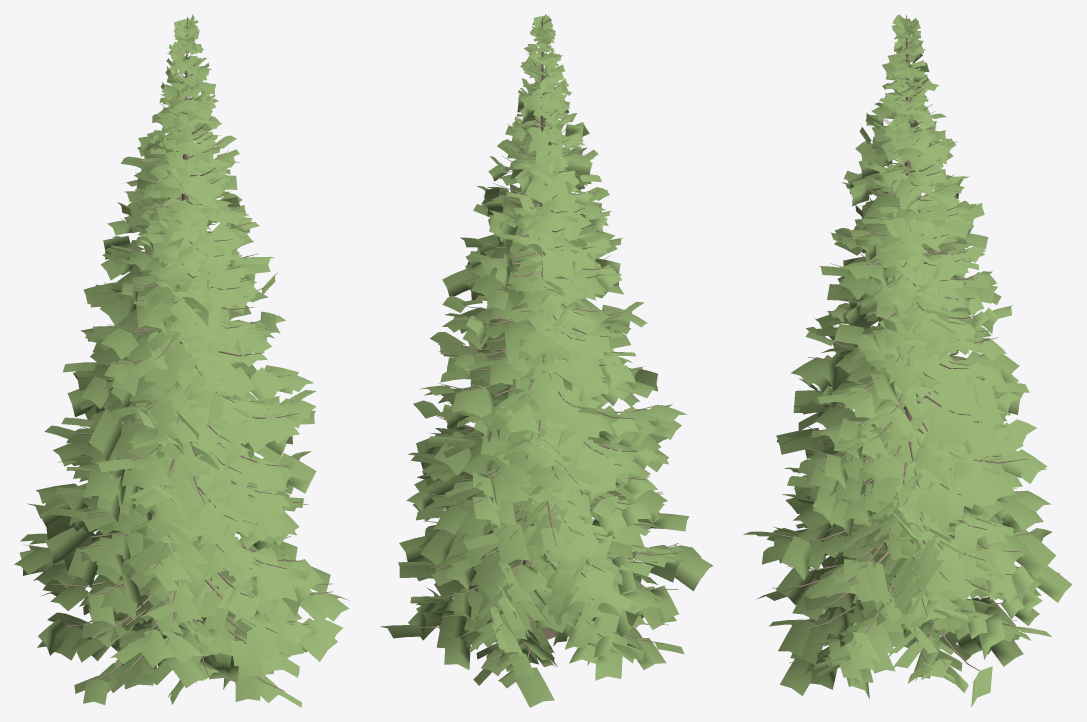
The model's file is Conifer_1_lod0.glb.
3 views of the same model, side by side, from view 1: azimuth 30°, elevation 25°; view 2: azimuth 150°, elevation 25°; view 3: azimuth 270°, elevation 25° (orthographic). The views are drawn at different scales.
Visible parts, largest first — view 1: Conifer_1_lod0; view 2: Conifer_1_lod0; view 3: Conifer_1_lod0.
Boxes of the visible parts, bbox=[...] form: Conifer_1_lod0: bbox=[14, 14, 349, 707]; Conifer_1_lod0: bbox=[380, 14, 713, 707]; Conifer_1_lod0: bbox=[743, 14, 1072, 707].
Size of the model in its own units: 6.34 by 14.68 by 6.72.
